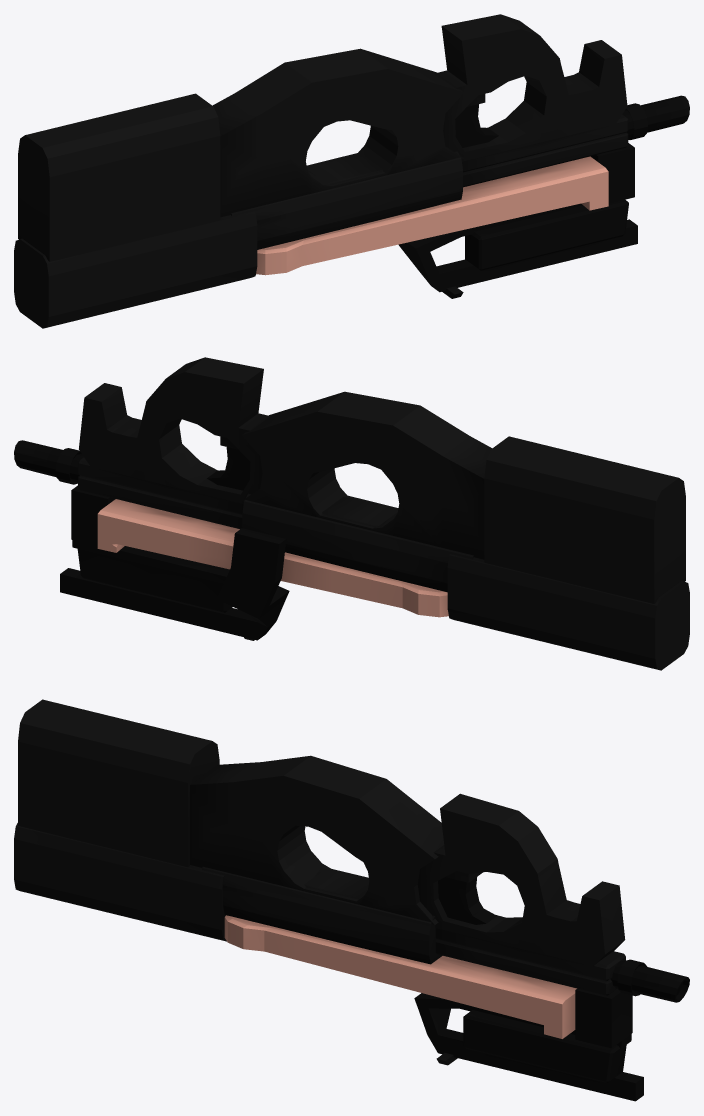
The model's file is z-submachinegun-03.glb.
3 views of the same model, one above another, from view 1: azimuth 30°, elevation 25°; view 2: azimuth 150°, elevation 25°; view 3: azimuth 330°, elevation 25° (orthographic).
Visible parts, largest first — view 1: body; view 2: body; view 3: body.
Boxes of the visible parts, left/top/right/bottom form: body: left=14, top=14, right=689, bottom=328; body: left=14, top=357, right=689, bottom=670; body: left=14, top=699, right=689, bottom=1101.
Size of the model in its own units: 0.5 by 0.1899 by 0.0653.
